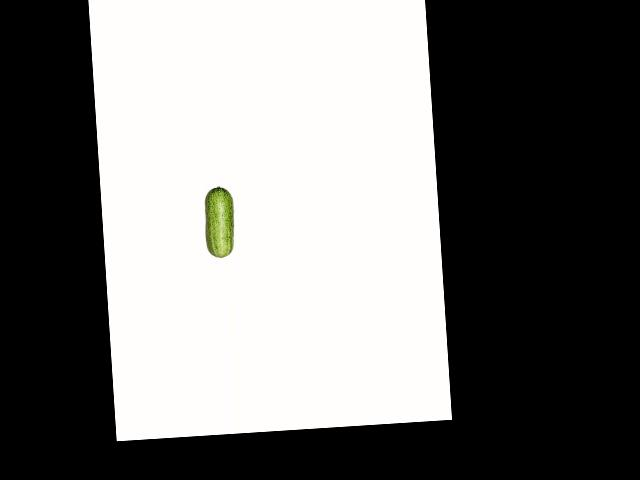cucumber: (202, 185, 236, 258)
